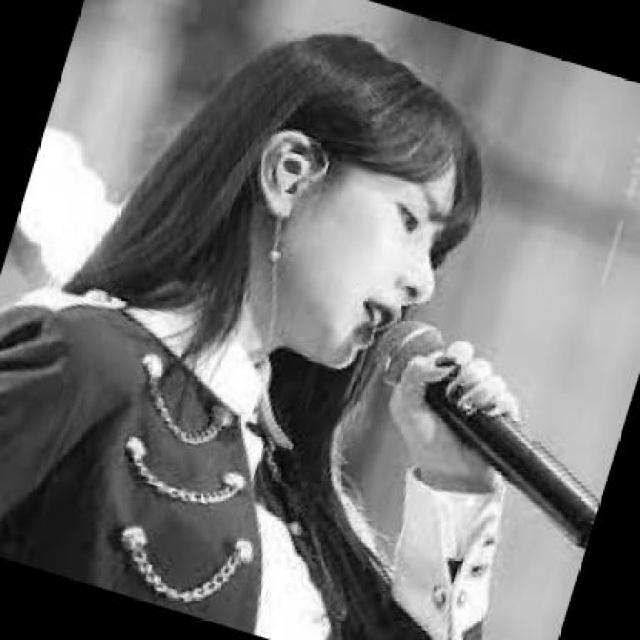earphone: (276, 147, 309, 215)
